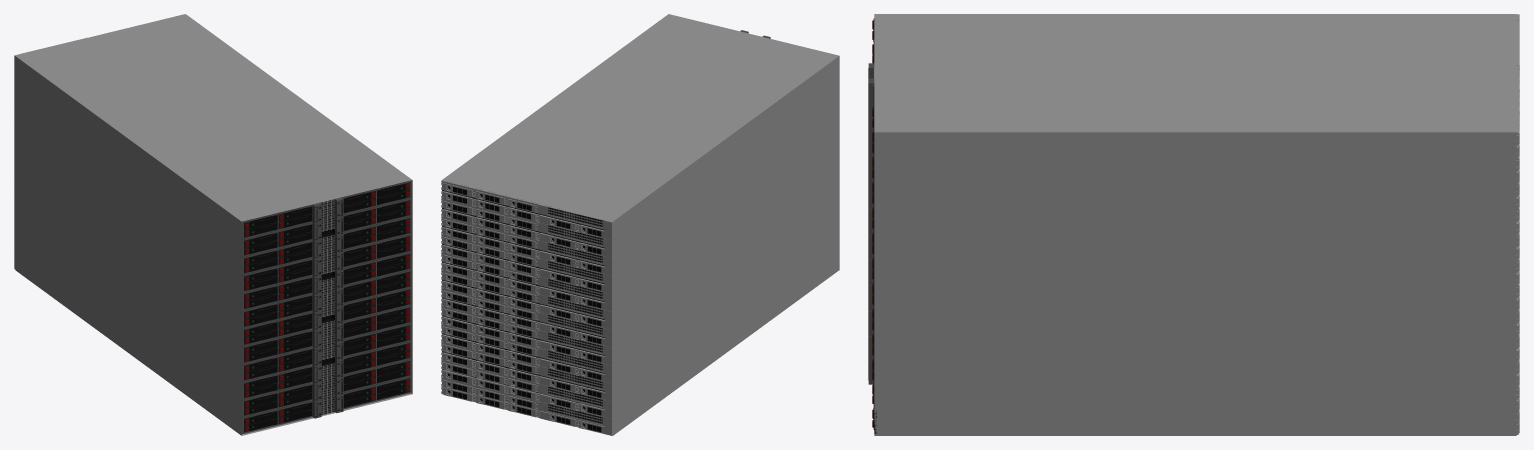
File: HPE_Apollo K6000.fbx
3 renders of one model, left to right at view 1: azimuth 30°, elevation 25°; view 2: azimuth 150°, elevation 25°; view 3: azimuth 270°, elevation 25°, orthographic. The views are drawn at different scales.
Parts seen in each view (by area): view 1: HPE_Apollo K6000; view 2: HPE_Apollo K6000; view 3: HPE_Apollo K6000.
Part boxes in pixels (x1=…): HPE_Apollo K6000: x1=14, y1=14, x2=412, y2=435; HPE_Apollo K6000: x1=441, y1=14, x2=839, y2=435; HPE_Apollo K6000: x1=868, y1=14, x2=1519, y2=435.
Size of the model in its own units: 447 by 535 by 1041.
Materials: 11 (1 with a texture image).
